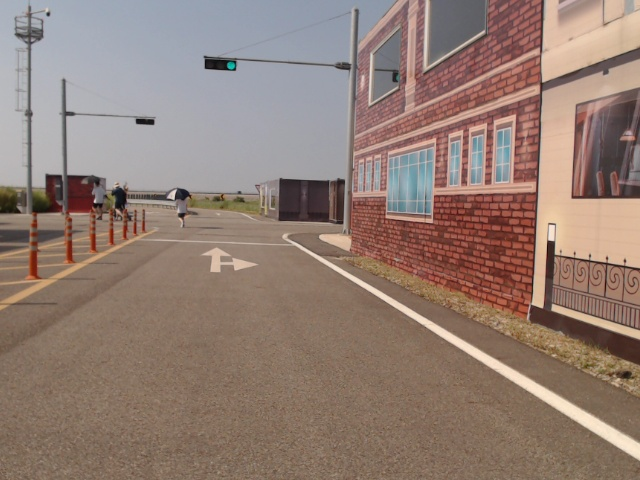green_3: (204, 58, 236, 71)
